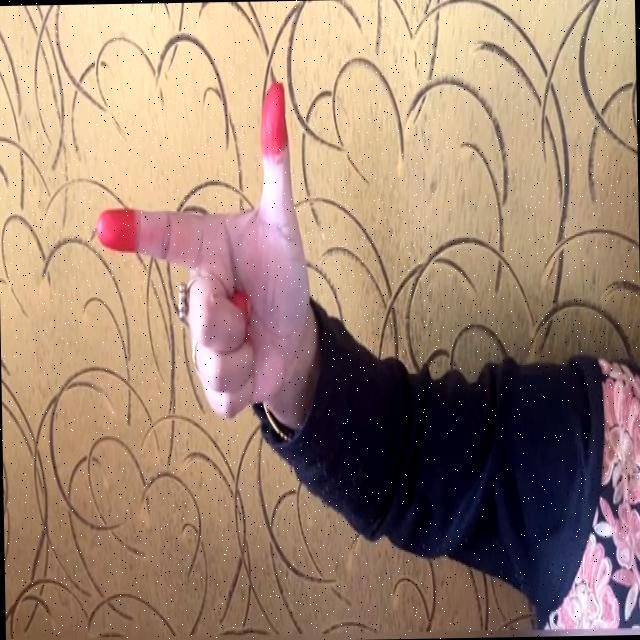Chandrakala: (74, 74, 340, 439)
